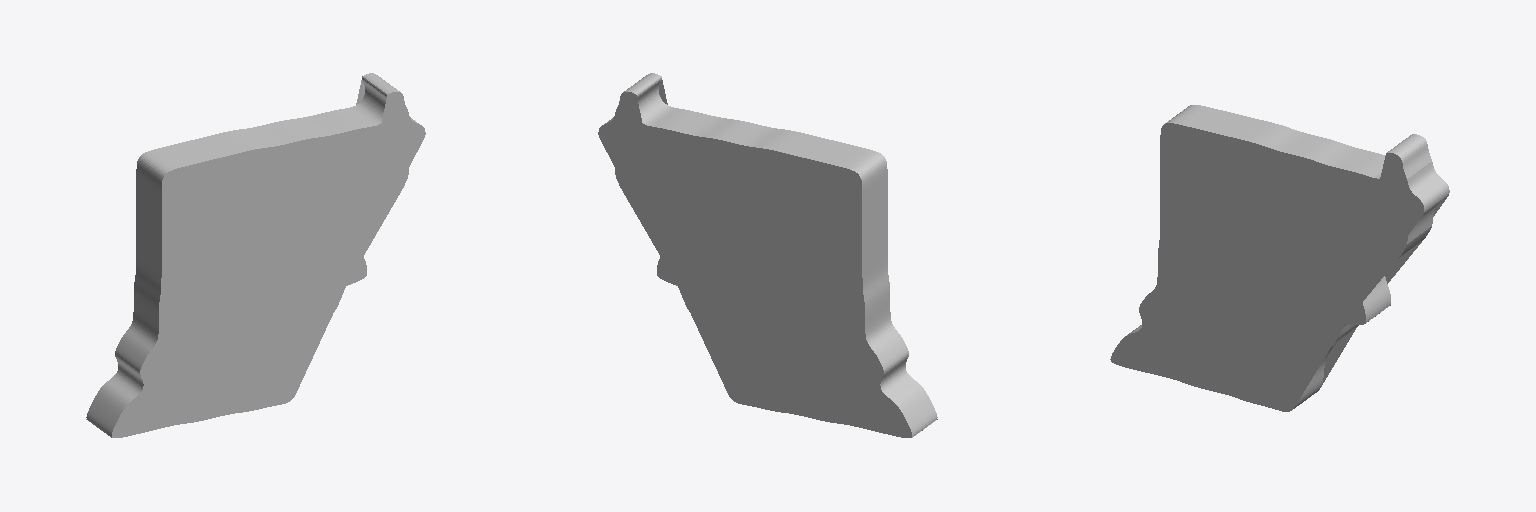
The picture shows the model from 3 angles: view 1: azimuth 30°, elevation 25°; view 2: azimuth 150°, elevation 25°; view 3: azimuth 330°, elevation 25°; orthographic projection.
Parts seen in each view (by area): view 1: 平面; view 2: 平面; view 3: 平面.
Boxes of the visible parts, <box> form: 平面: <box>86,73,425,437</box>; 平面: <box>598,73,937,437</box>; 平面: <box>1110,105,1449,411</box>.
Bounding box in the file's own units: 1.44 × 1.25 × 0.2.